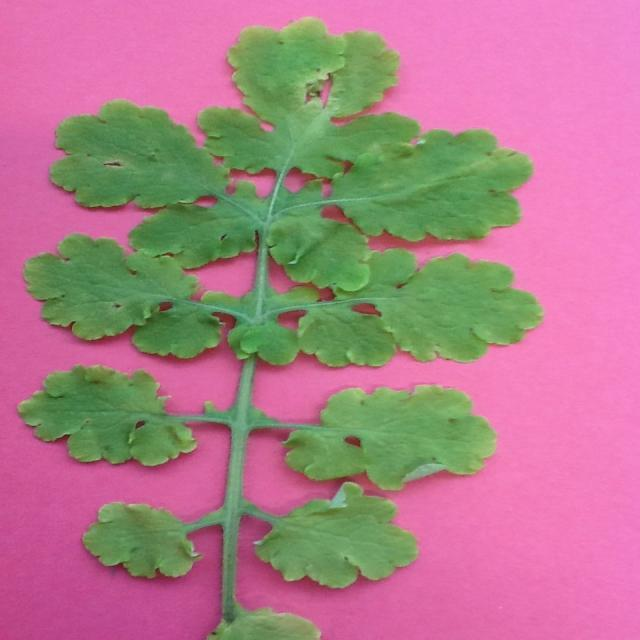foliage: (266, 122, 538, 300), (44, 100, 264, 275), (269, 232, 538, 368), (202, 15, 418, 184), (27, 235, 249, 360), (258, 382, 502, 492), (20, 360, 236, 470), (242, 480, 422, 590), (78, 496, 220, 582), (215, 601, 335, 640)
